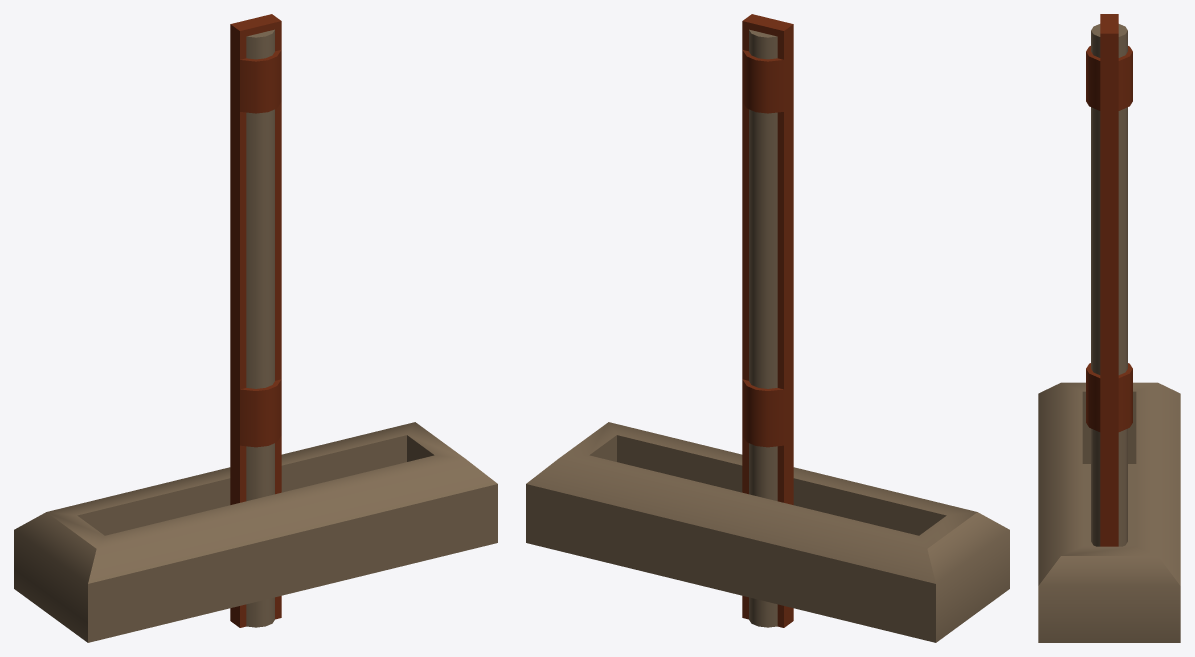
Rendered from lever.FBX.
The picture shows the model from 3 angles, left to right: view 1: azimuth 30°, elevation 25°; view 2: azimuth 150°, elevation 25°; view 3: azimuth 270°, elevation 25°; orthographic projection. The views are drawn at different scales.
Parts seen in each view (by area): view 1: lever_base, lever; view 2: lever_base, lever; view 3: lever_base, lever.
Boxes of the visible parts, x1,y1,x2,y2 form: lever_base: (14, 422, 497, 642); lever: (230, 14, 281, 627); lever_base: (526, 422, 1009, 642); lever: (742, 14, 793, 627); lever_base: (1038, 382, 1180, 642); lever: (1086, 14, 1132, 546).
Size of the model in its own units: 80 by 111 by 25.
